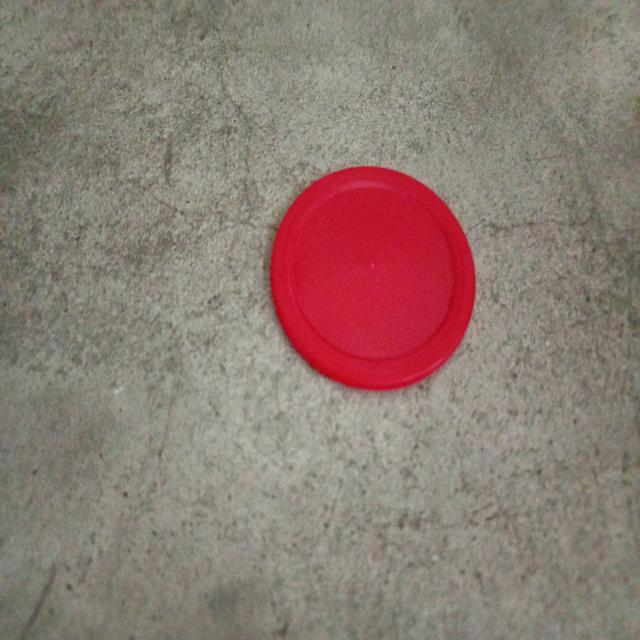chip: (266, 162, 478, 392)
